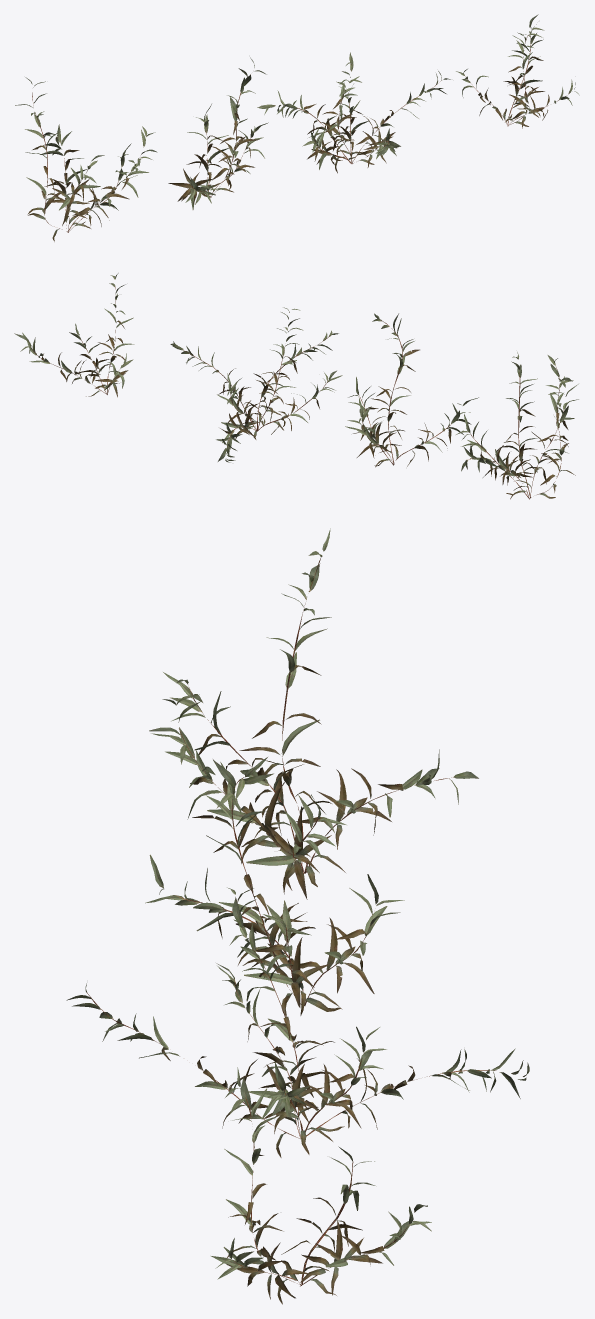
Rendered from shrub_02.glb.
The picture shows the model from 3 angles, top to bottom: view 1: azimuth 30°, elevation 25°; view 2: azimuth 150°, elevation 25°; view 3: azimuth 270°, elevation 25°; orthographic projection. The views are drawn at different scales.
Parts seen in each view (by area): view 1: shrub_02_a; view 2: shrub_02_a; view 3: shrub_02_a.
Boxes of the visible parts, x1,y1,x2,y2 form: shrub_02_a: [15, 14, 579, 241]; shrub_02_a: [14, 273, 578, 499]; shrub_02_a: [66, 528, 529, 1304].
Bounding box in the file's own units: 6.05 × 1.7 × 2.28.
Materials: 1 (1 with a texture image).
